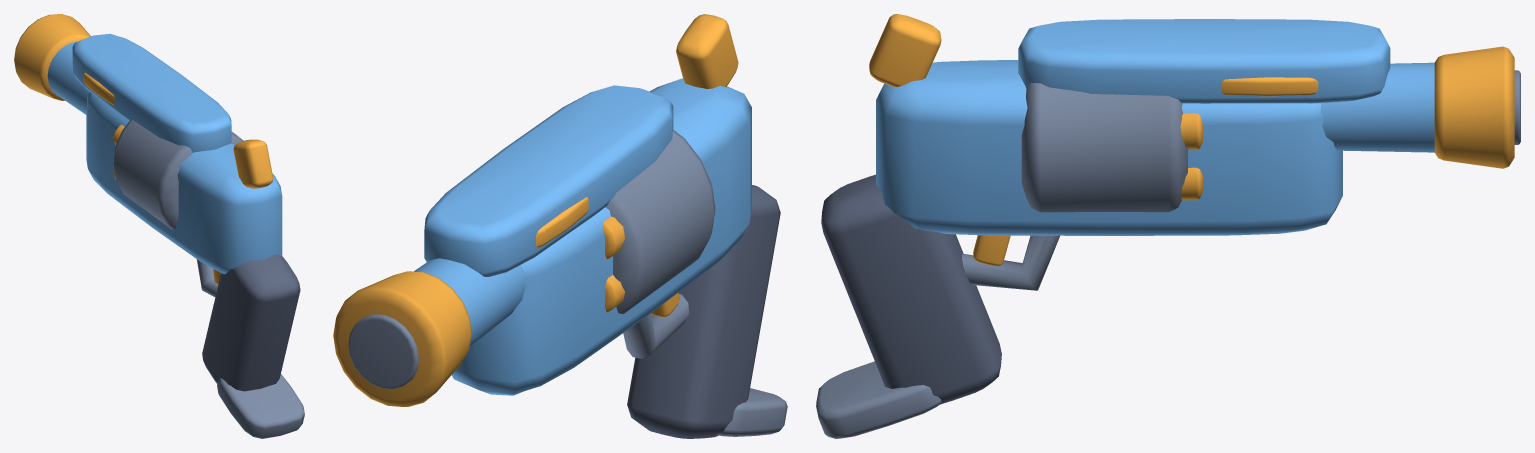
The model's file is six_shot.glb.
3 views of the same model, side by side, from view 1: azimuth 30°, elevation 25°; view 2: azimuth 150°, elevation 25°; view 3: azimuth 270°, elevation 25° (orthographic). The views are drawn at different scales.
Parts seen in each view (by area): view 1: Mesh_Chassis_Body, Cylinder; view 2: Mesh_Chassis_Body, Cylinder; view 3: Mesh_Chassis_Body, Cylinder.
Part boxes in pixels (box(x1,y1,x2,y2)): Mesh_Chassis_Body: box(14, 14, 304, 438); Cylinder: box(113, 120, 243, 229); Mesh_Chassis_Body: box(333, 14, 787, 438); Cylinder: box(602, 129, 715, 314); Mesh_Chassis_Body: box(816, 14, 1520, 438); Cylinder: box(1021, 82, 1202, 212).
Bounding box in the file's own units: 0.108 × 0.2852 × 0.4453.
